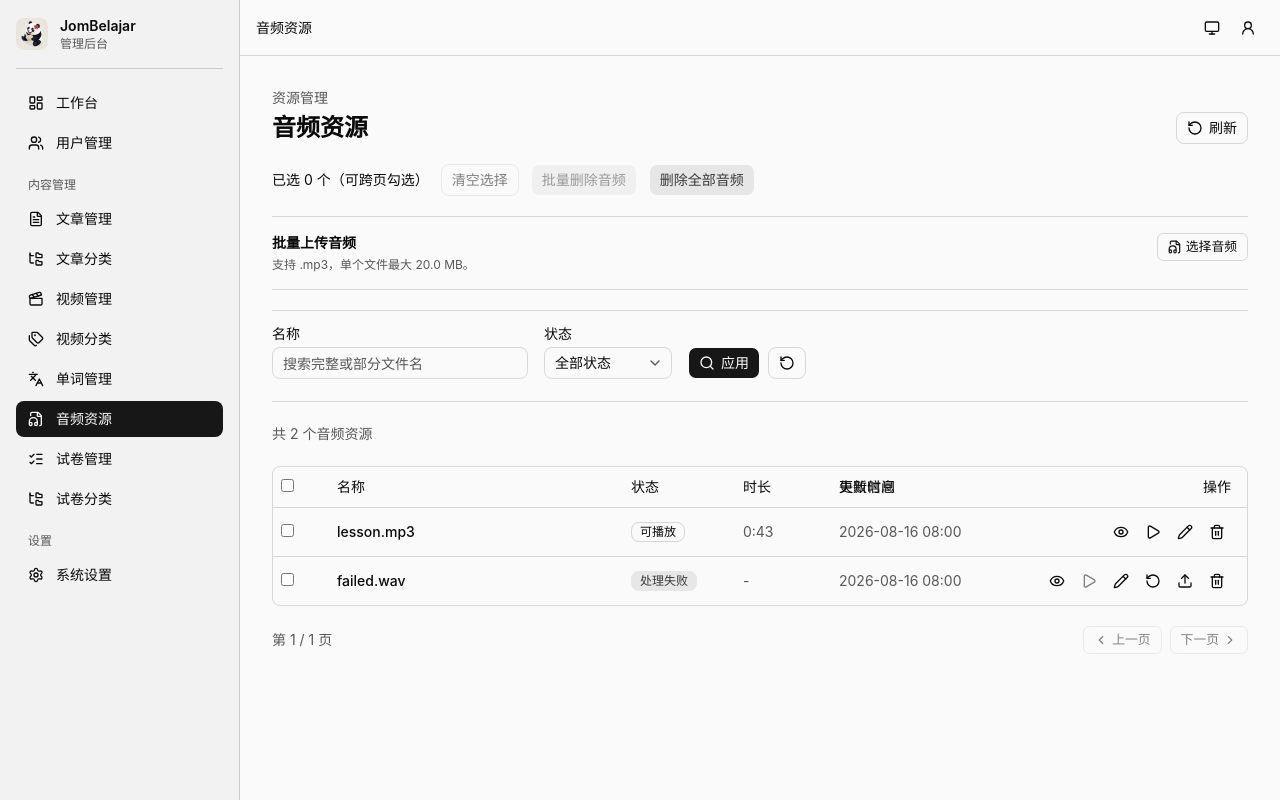
Test: AudioLibrary › shows playback errors in the dialog and retries
The width and height of the screenshot is (1280, 800).
Click the button named "试听 lesson.mp3" at coordinates (1153, 532), box [1139,518,1167,546]
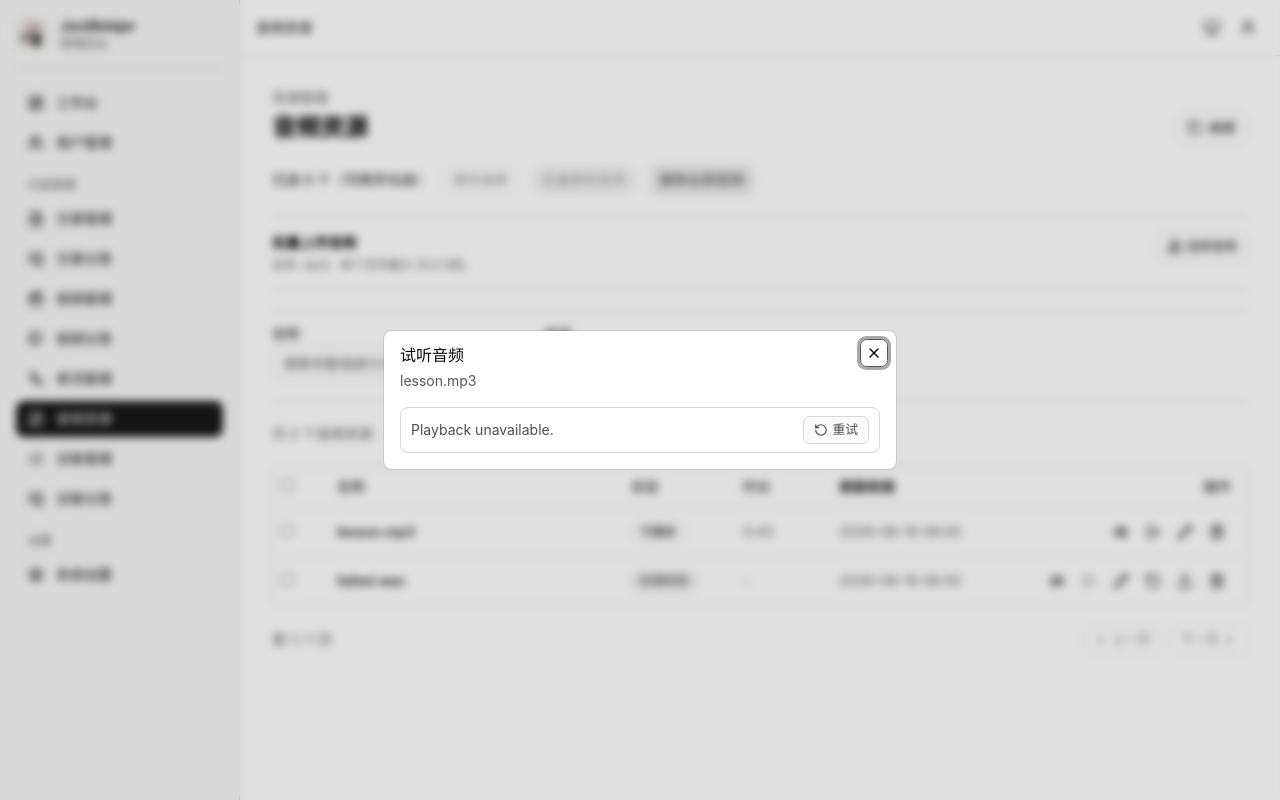
Expected: the text "Playback unavailable." is shown, [411,420,554,440]
Click the button "重试" at coordinates (836, 430), box [803,416,869,444]
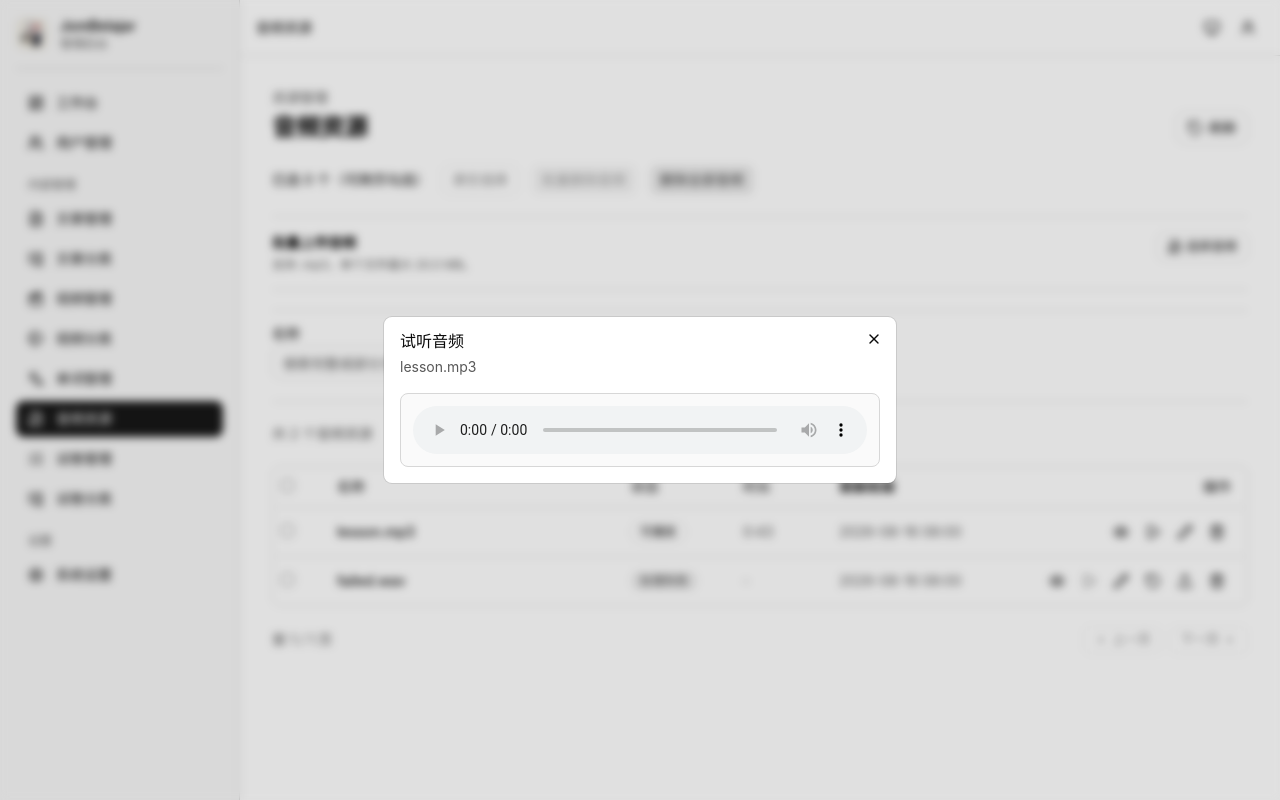
Expected: the element named "正在试听 lesson.mp3" is shown, [413,406,867,454]
